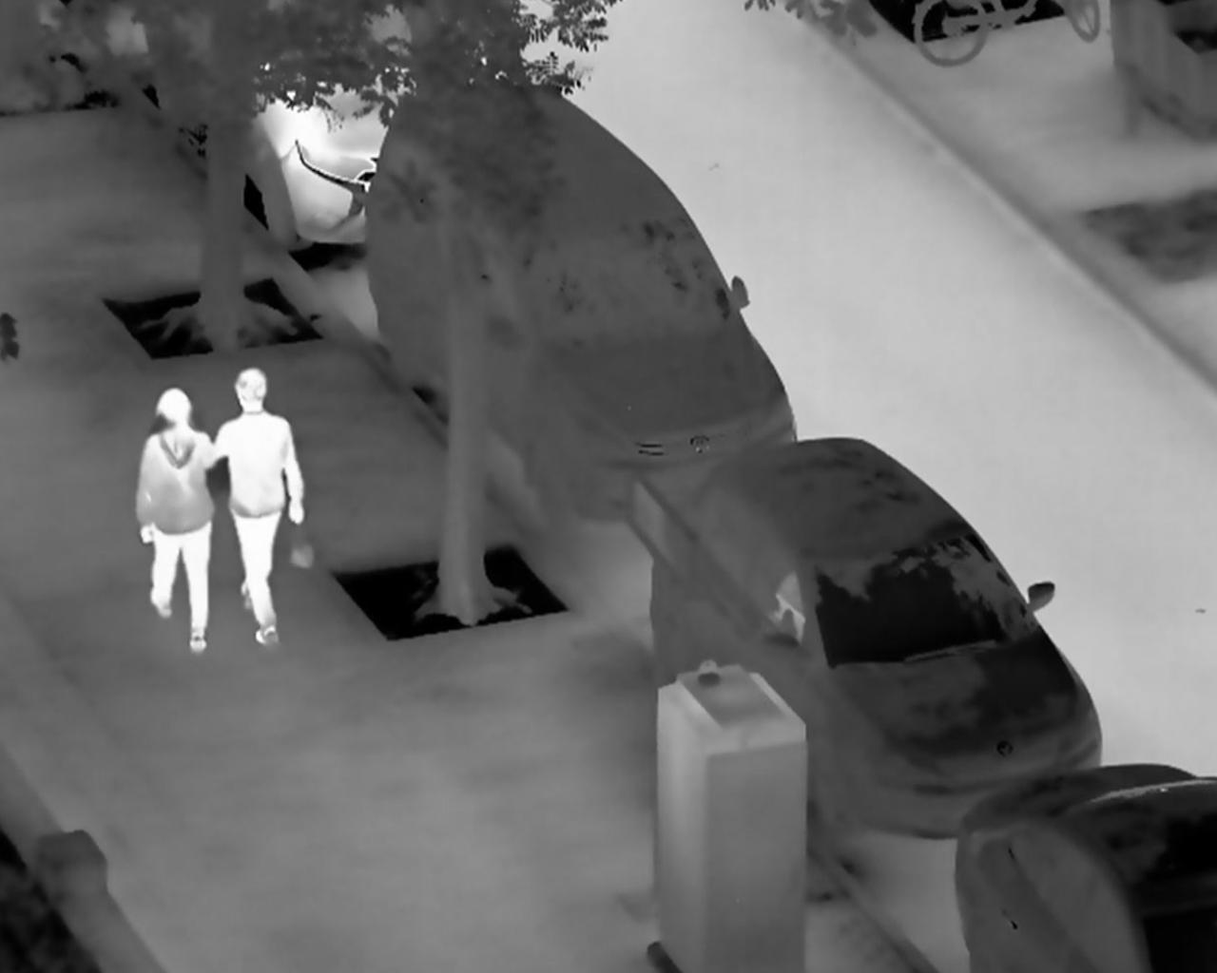person: (214, 368, 303, 646), (133, 384, 219, 654)
